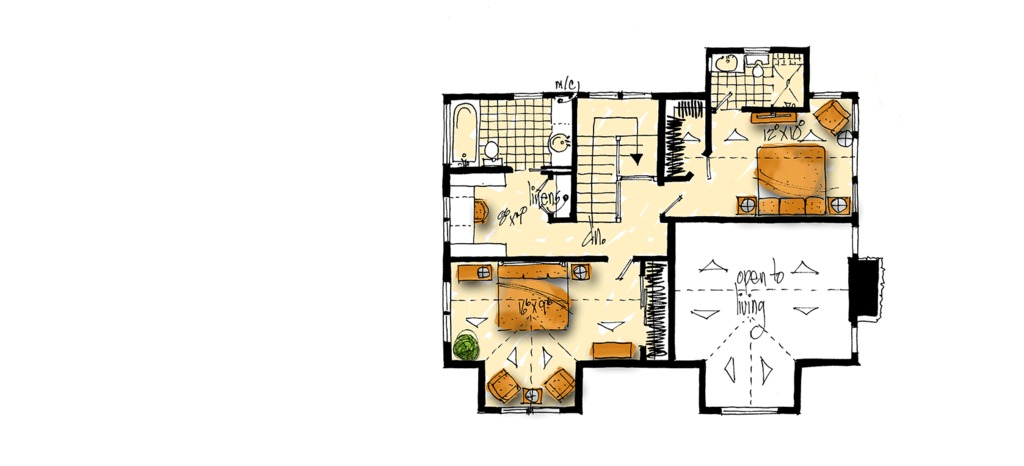bed: (748, 134, 833, 212), (495, 259, 574, 339)
large_sink: (746, 48, 772, 83), (479, 134, 501, 171)
small_sink: (545, 95, 574, 169), (708, 56, 740, 72)
small_sofa: (812, 94, 854, 142), (547, 360, 583, 414), (488, 369, 516, 403)
stairs: (576, 97, 657, 228)
tub: (444, 99, 484, 165)
window: (437, 279, 457, 343), (719, 395, 783, 415), (437, 197, 460, 249)
